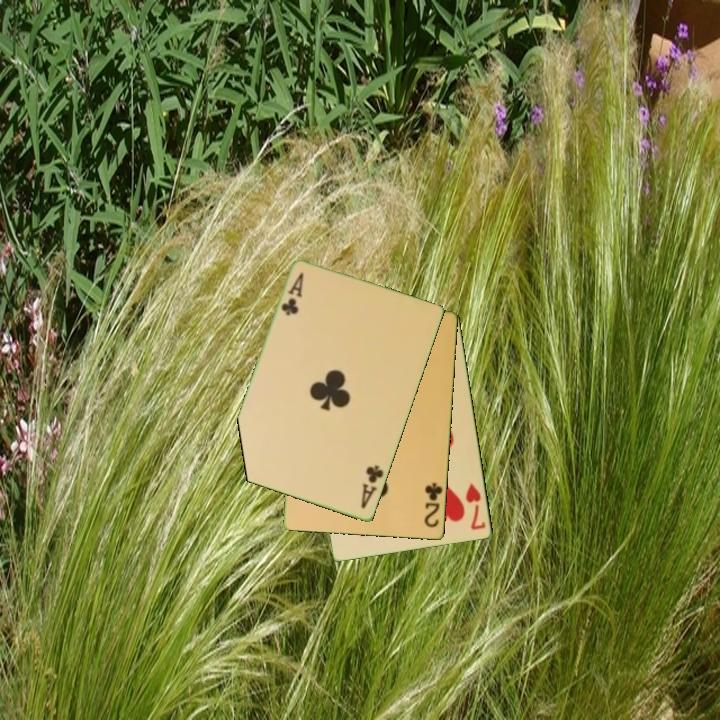2c: (421, 479, 446, 531)
7h: (462, 480, 489, 533)
Ac: (358, 462, 387, 512), (278, 269, 307, 319)
